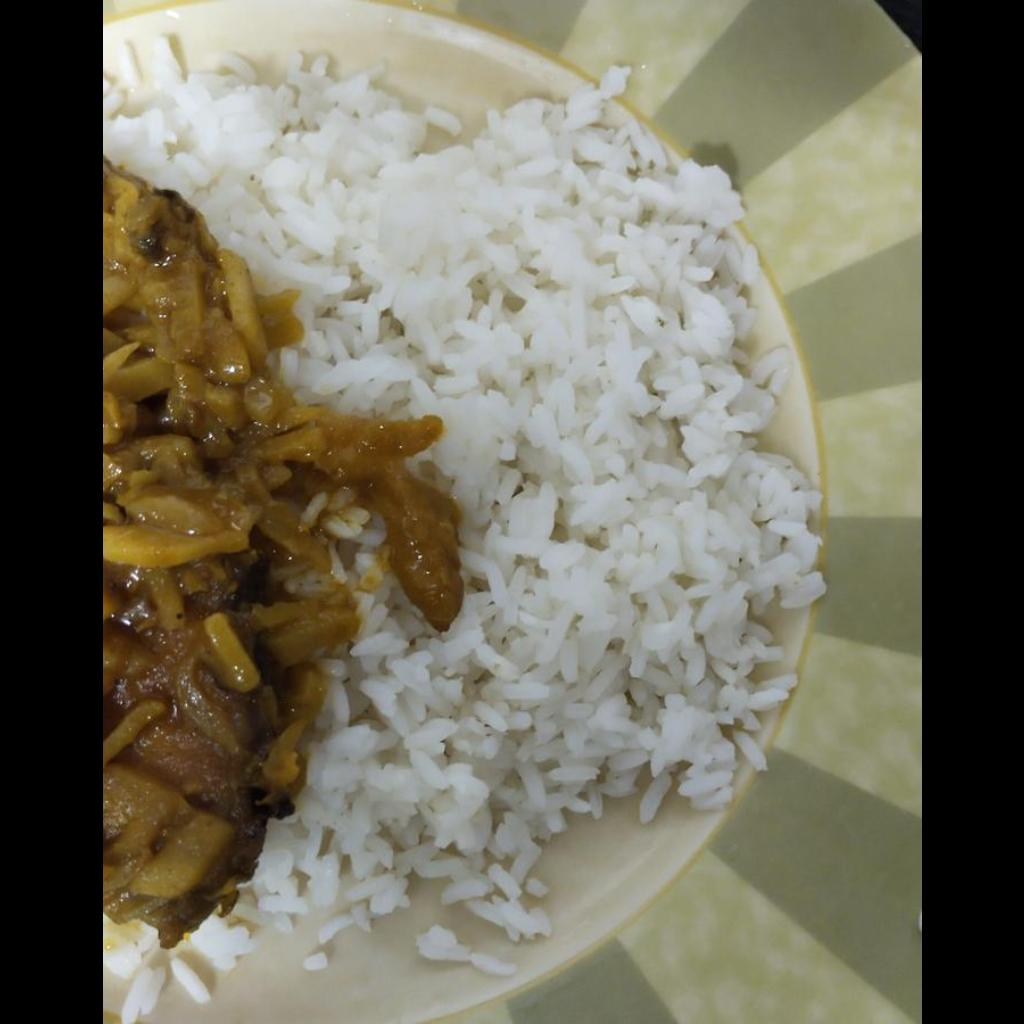rice: (102, 57, 817, 1016)
vegetable: (102, 165, 451, 935)
